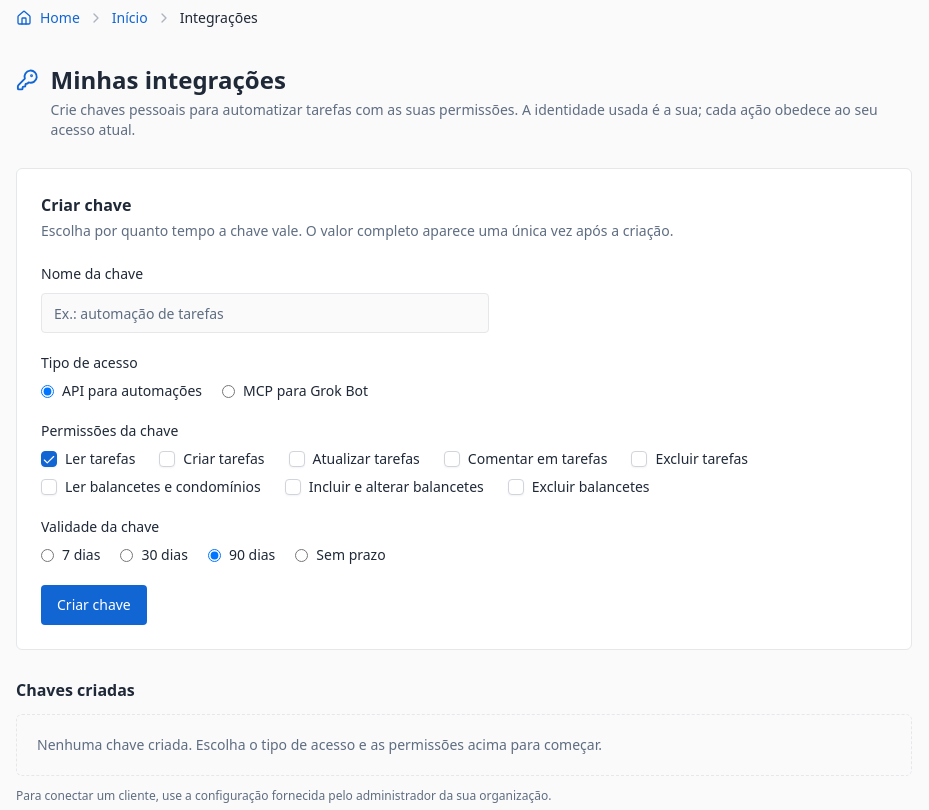
Test: personal integration keys › key lifetime › sends an explicit null for a key without deadline and warns that only revocation ends it
The width and height of the screenshot is (929, 810).
Expected: the text "Nenhuma chave" is shown, [37, 735, 602, 754]
Expected: the text "só deixa de funcionar quando for revogada" is not shown
Click the radio button labelled "Sem prazo".
click(302, 555)  # box [295, 548, 308, 562]
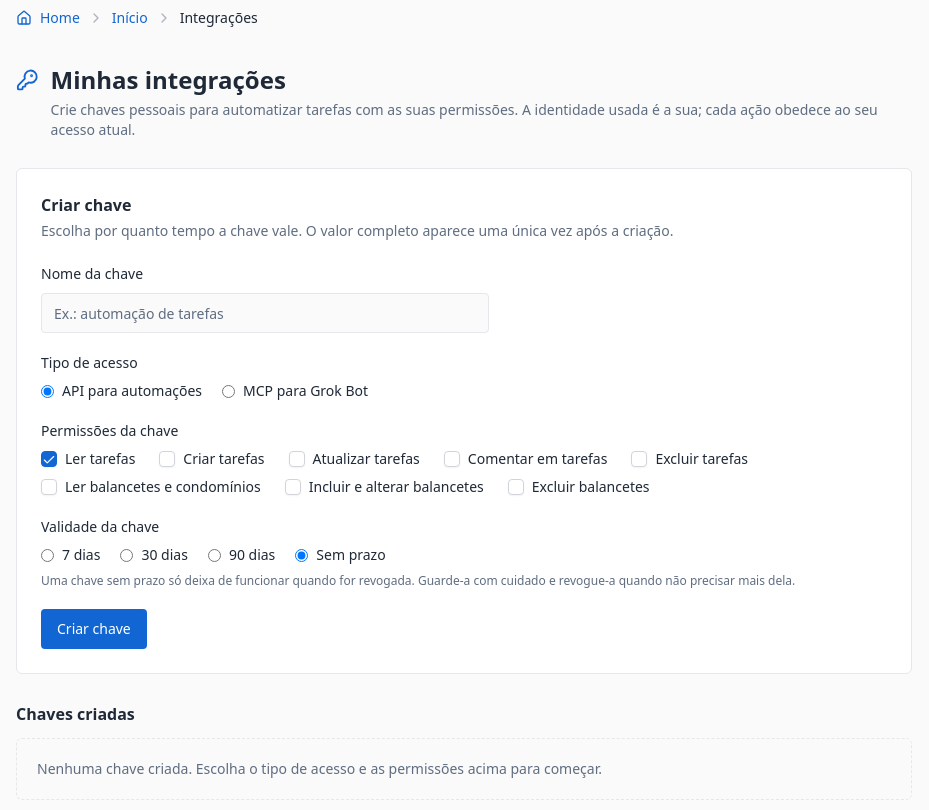
Expected: the text "só deixa de funcionar quando for revogada" is shown, [41, 572, 795, 589]
Type "Perene" into the field labelled "Nome da chave".
click(265, 313); type("Perene")  # box [41, 293, 489, 333]
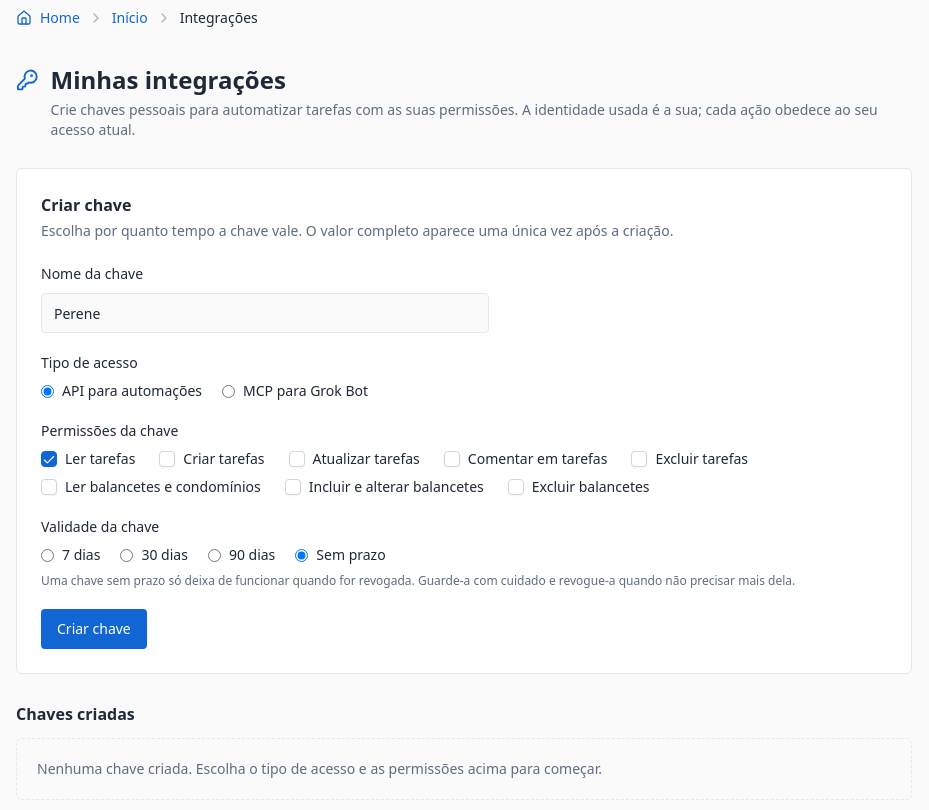
Click the button "Criar chave".
click(94, 629)  # box [41, 609, 147, 649]
(page scrolled)
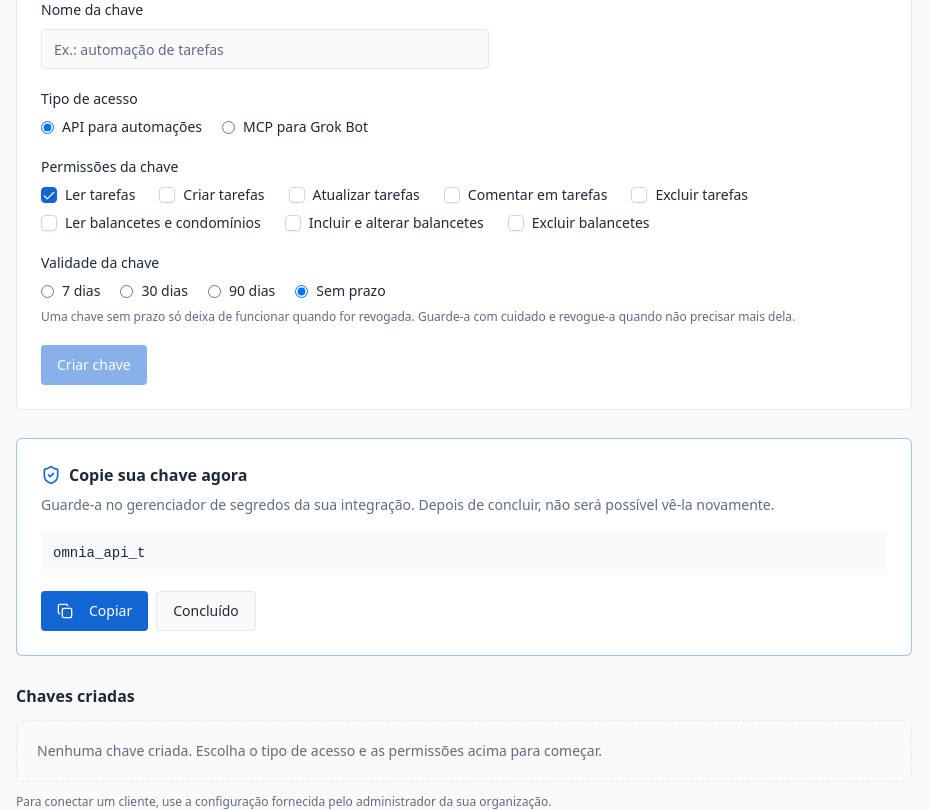
Expected: the text "omnia_api_t" is shown, [41, 531, 887, 575]
